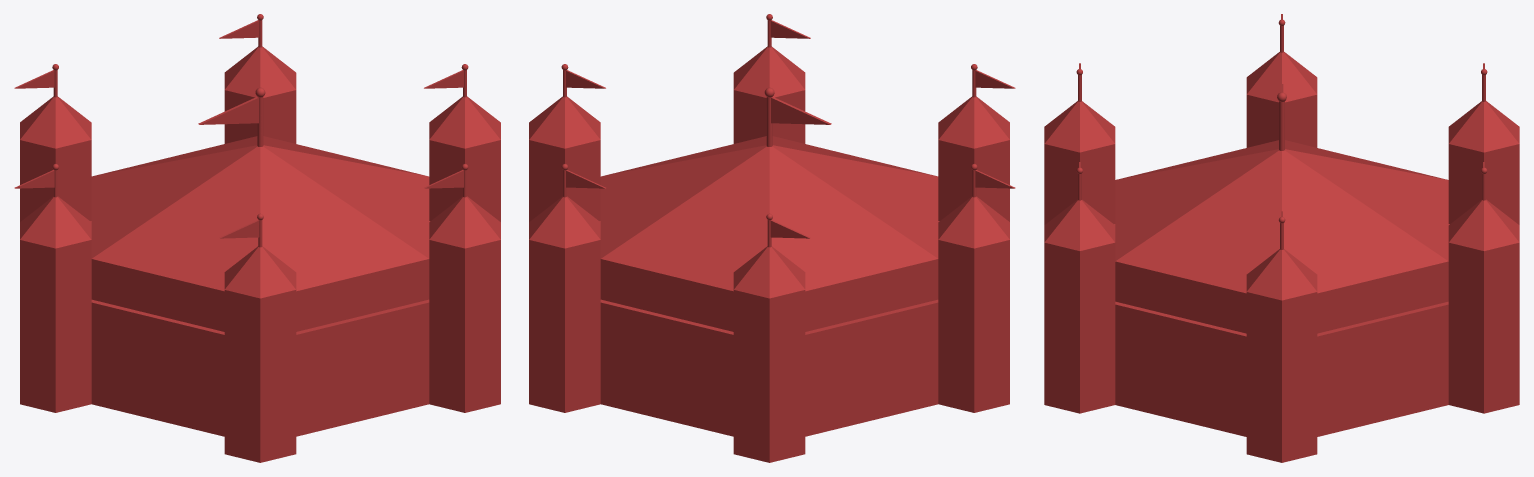
Rendered from _castle.fbx.
3 renders of one model, left to right at view 1: azimuth 30°, elevation 25°; view 2: azimuth 150°, elevation 25°; view 3: azimuth 270°, elevation 25°, orthographic.
Visible parts, largest first — view 1: 개체_1; view 2: 개체_1; view 3: 개체_1.
Boxes of the visible parts, x1,y1,x2,y2 form: 개체_1: (14, 14, 500, 462); 개체_1: (529, 14, 1015, 462); 개체_1: (1044, 14, 1519, 462).
Bounding box in the file's own units: 19.49 × 16.7 × 9.86.
